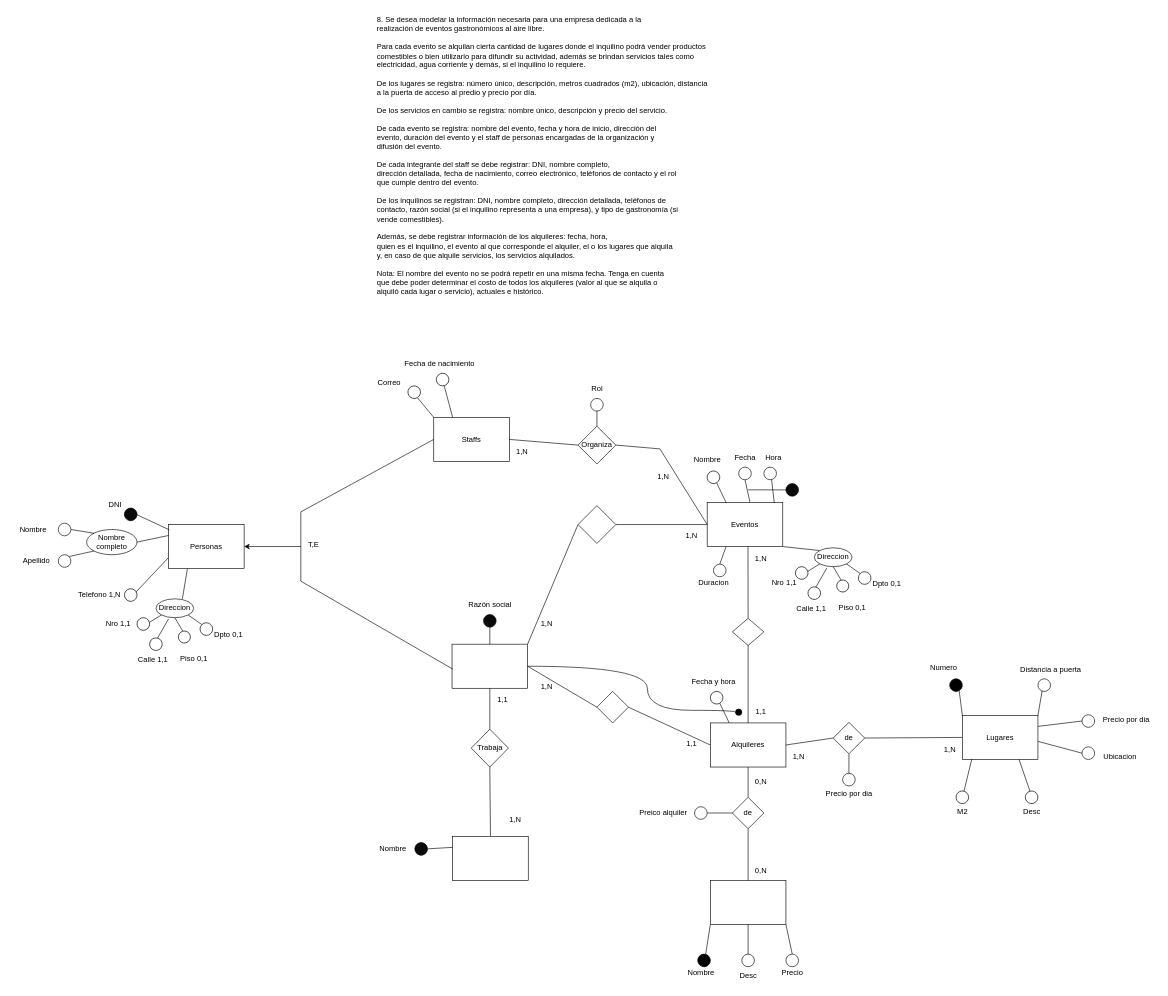
The diagram is 1168 pixels wide and 996 high, and some of its shapes have lost their labels. The centre of each missing label's shape, as x and y in pixels:
Gastronomias: the point at 490,858
Hay: the point at 748,631
Inquilinos: the point at 489,666
Servicios: the point at 748,902
tiene: the point at 612,707
Vende: the point at 596,524
